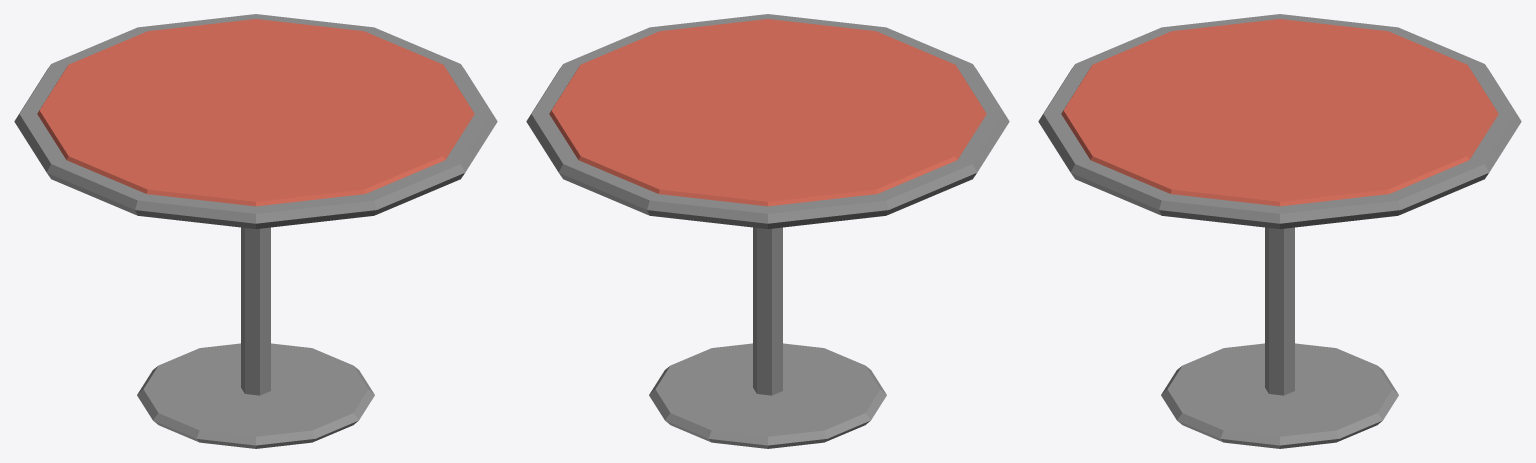
File: Int_Table06_2.fbx
The picture shows the model from 3 angles, left to right: view 1: azimuth 30°, elevation 25°; view 2: azimuth 150°, elevation 25°; view 3: azimuth 270°, elevation 25°; orthographic projection.
Visible parts, largest first — view 1: Int_Table06_2; view 2: Int_Table06_2; view 3: Int_Table06_2.
Part boxes in pixels (left/top/right/bottom): Int_Table06_2: left=14, top=14, right=497, bottom=448; Int_Table06_2: left=526, top=14, right=1009, bottom=448; Int_Table06_2: left=1038, top=14, right=1521, bottom=448.
Size of what is drawn, in the model's own units: 105 by 105 by 69.96.
